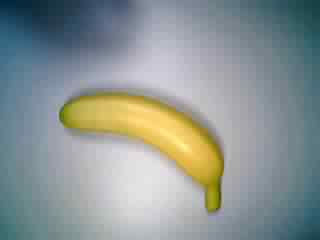banana: (57, 91, 226, 216)
